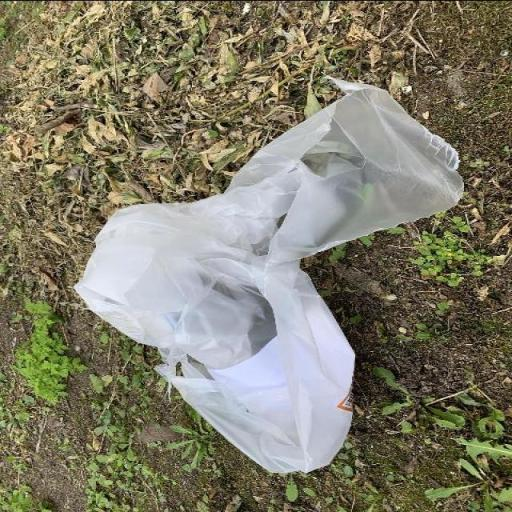plastic-bag: (71, 76, 468, 478)
